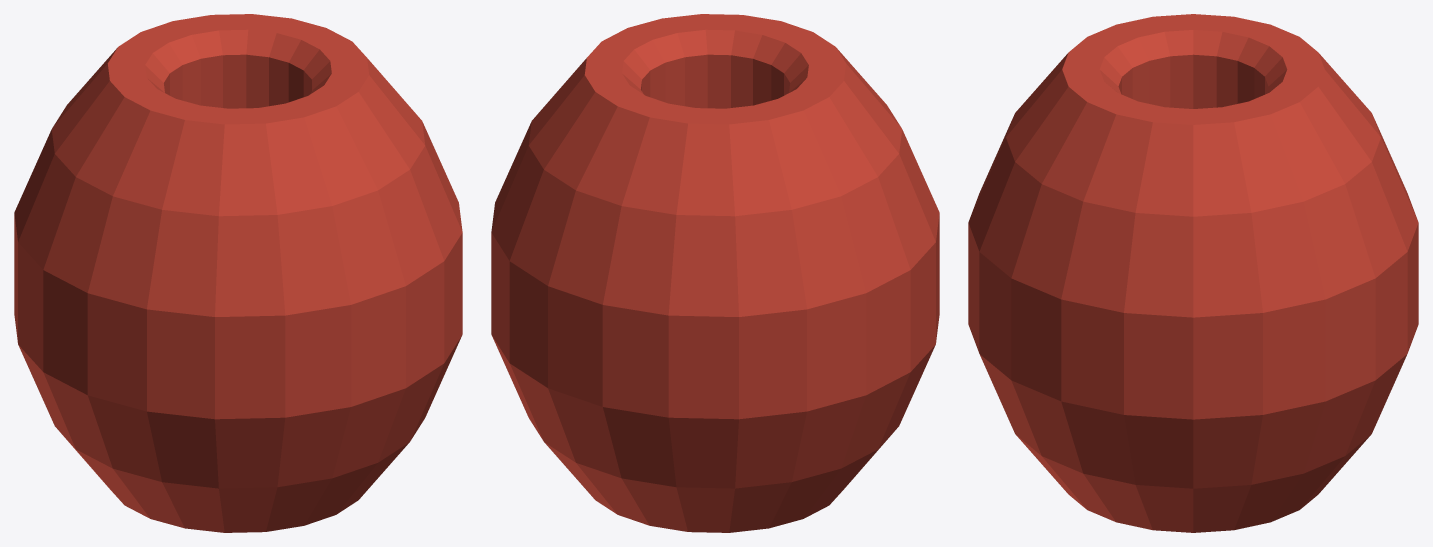
The model's file is bead.glb.
The picture shows the model from 3 angles, left to right: view 1: azimuth 30°, elevation 25°; view 2: azimuth 150°, elevation 25°; view 3: azimuth 270°, elevation 25°; orthographic projection.
Visible parts, largest first — view 1: Red faceted bead; view 2: Red faceted bead; view 3: Red faceted bead.
Part boxes in pixels (x1,y1,x2,y2): Red faceted bead: [14, 14, 462, 532]; Red faceted bead: [491, 14, 939, 532]; Red faceted bead: [968, 14, 1418, 532].
Bounding box in the file's own units: 0.012 × 0.012 × 0.012.
